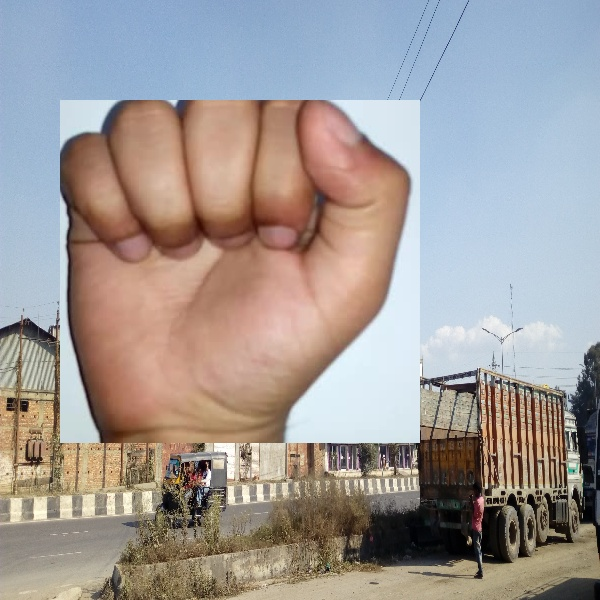A: (60, 100, 420, 443)
